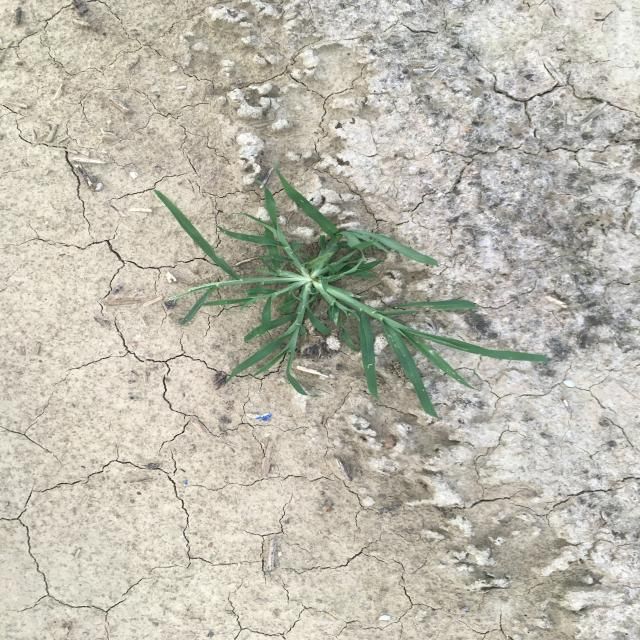Goosegrass: (151, 167, 554, 421)
